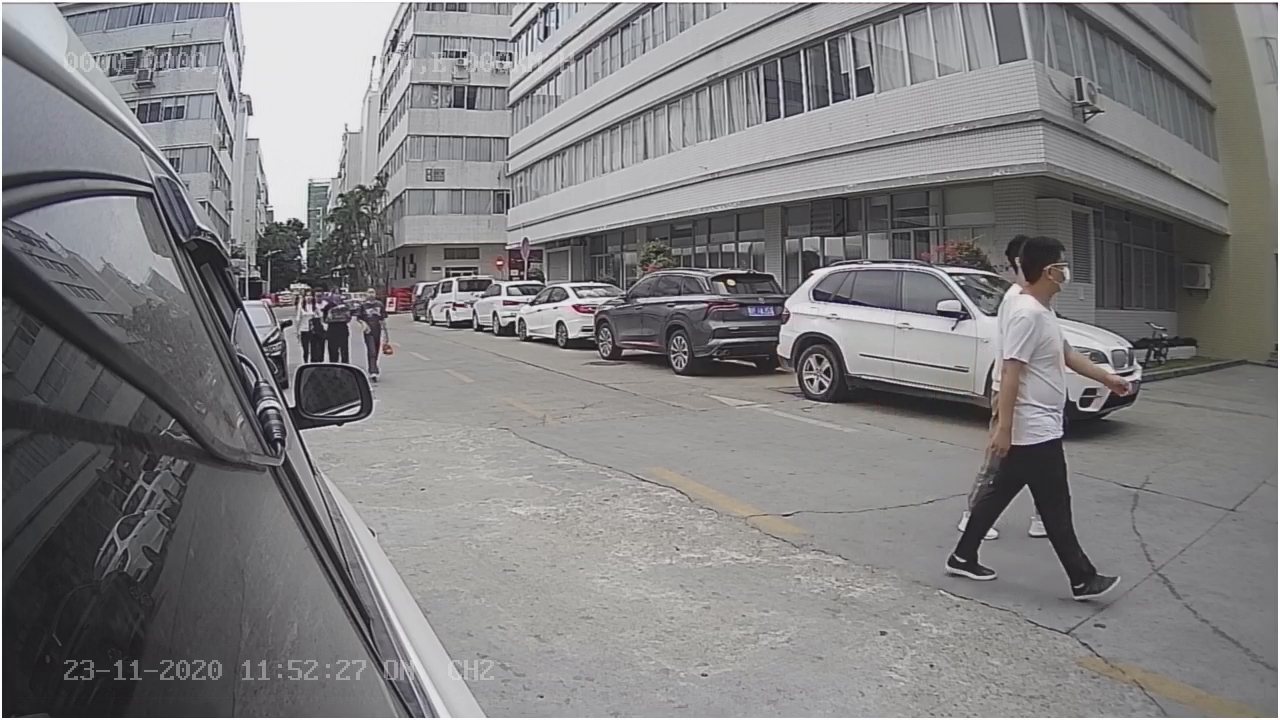person: (978, 232, 1104, 602)
